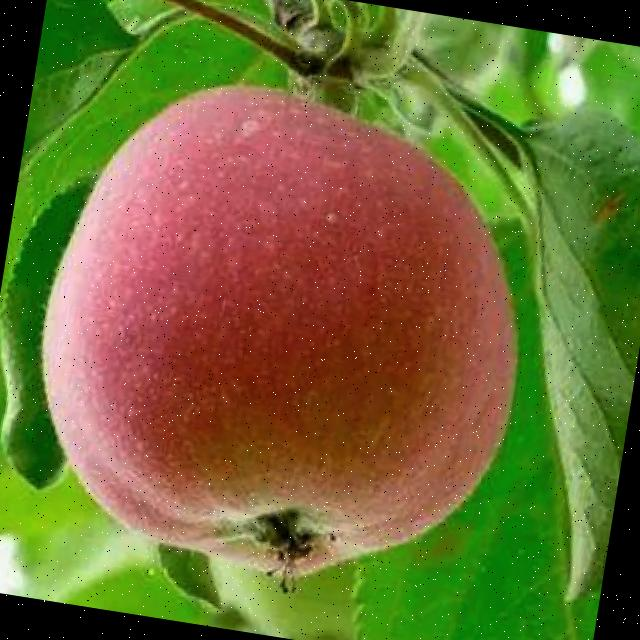apple: (0, 19, 619, 640)
